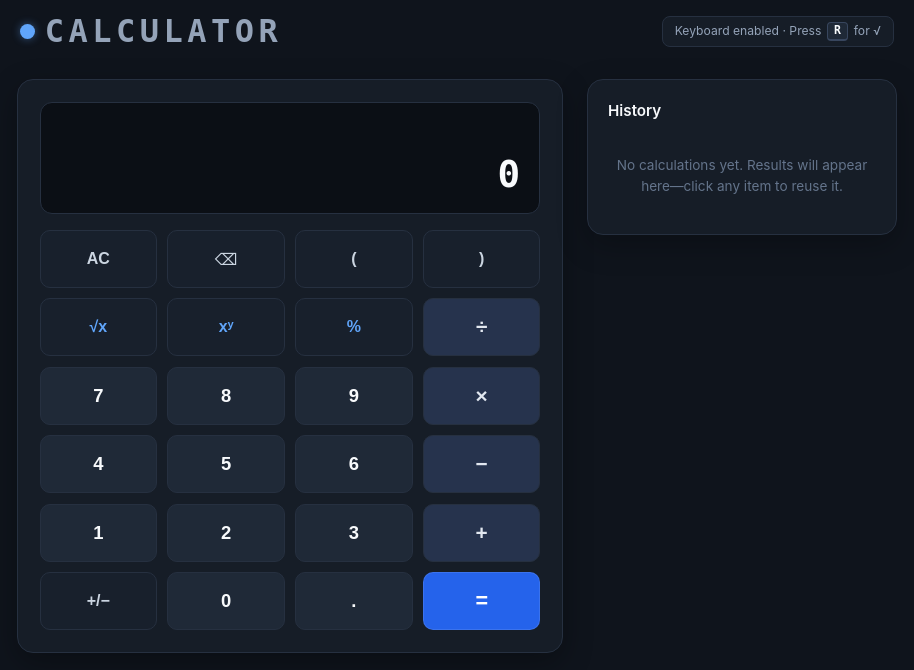
Scenario: App Calculator UI & Integration › renders square root starting with √() and inserts digits inside parentheses
Click the button named "Square root" at (98, 327), box [40, 298, 157, 356]
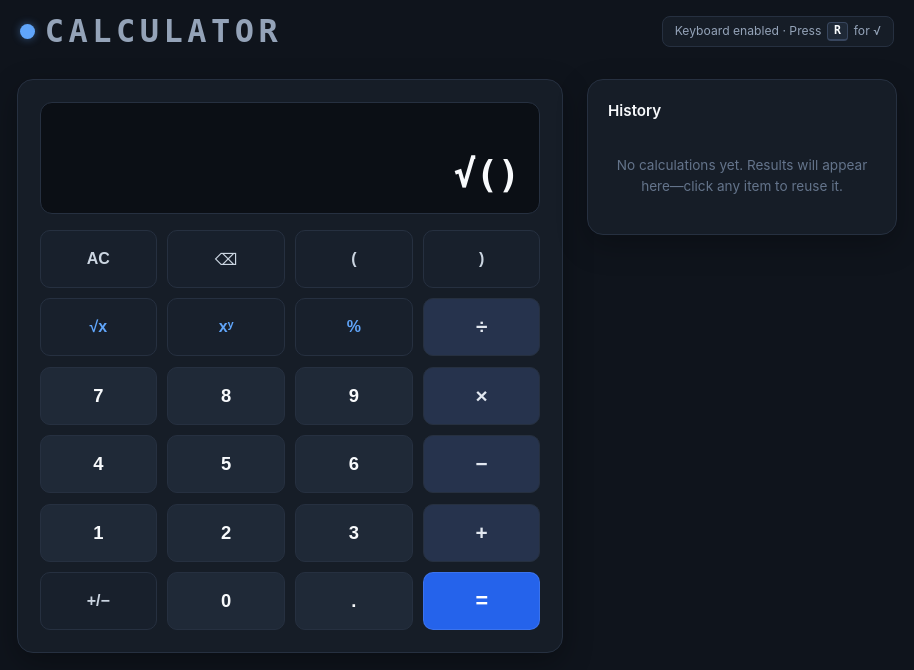
Now the message with test id "calculator-display" reads "√()", box [454, 152, 519, 196]
Click the button "1" at (98, 533), box [40, 504, 157, 562]
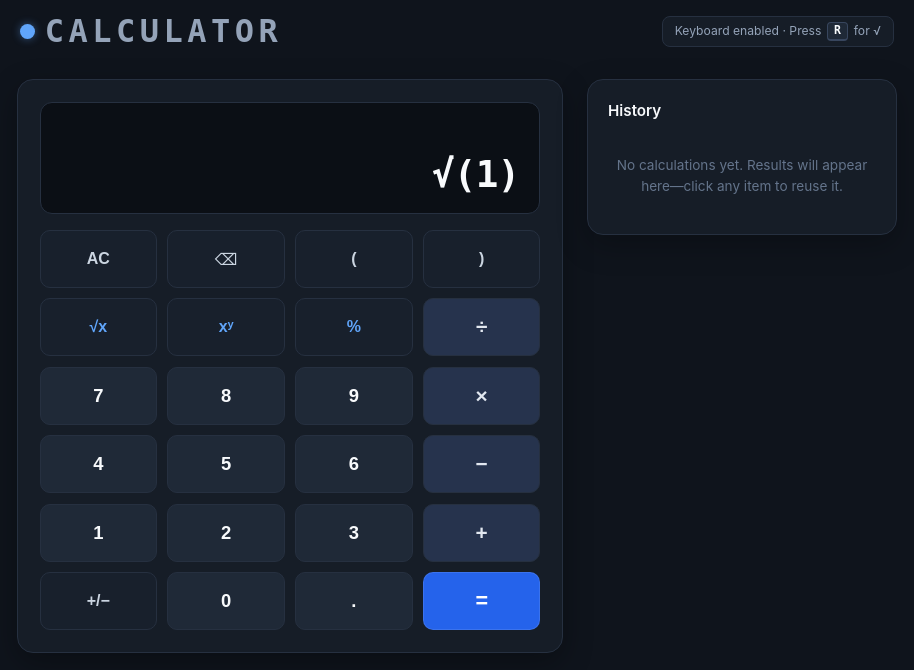
Click the button "4" at (98, 464), box [40, 435, 157, 493]
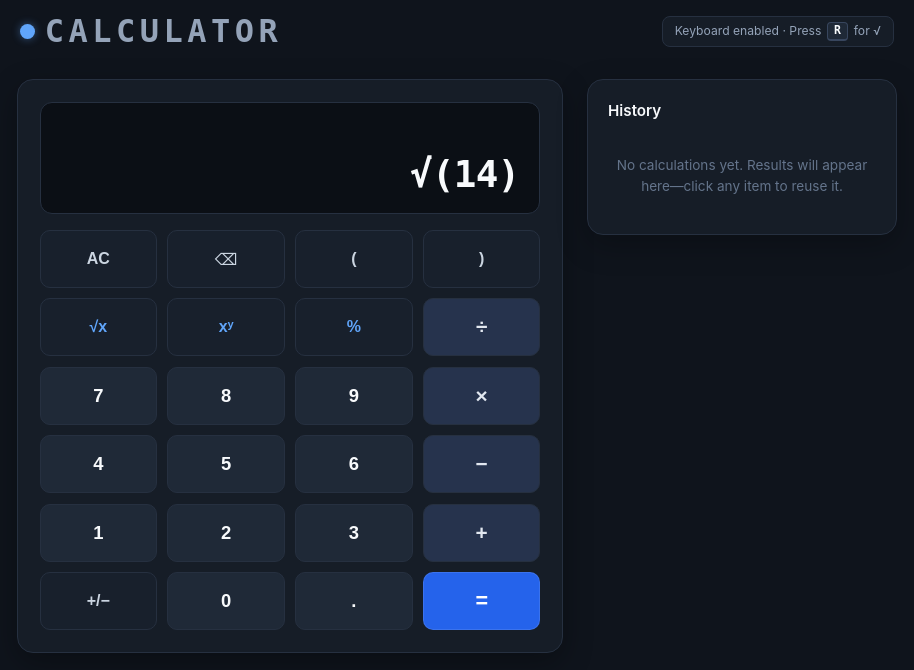
Click the button "4" at (98, 464), box [40, 435, 157, 493]
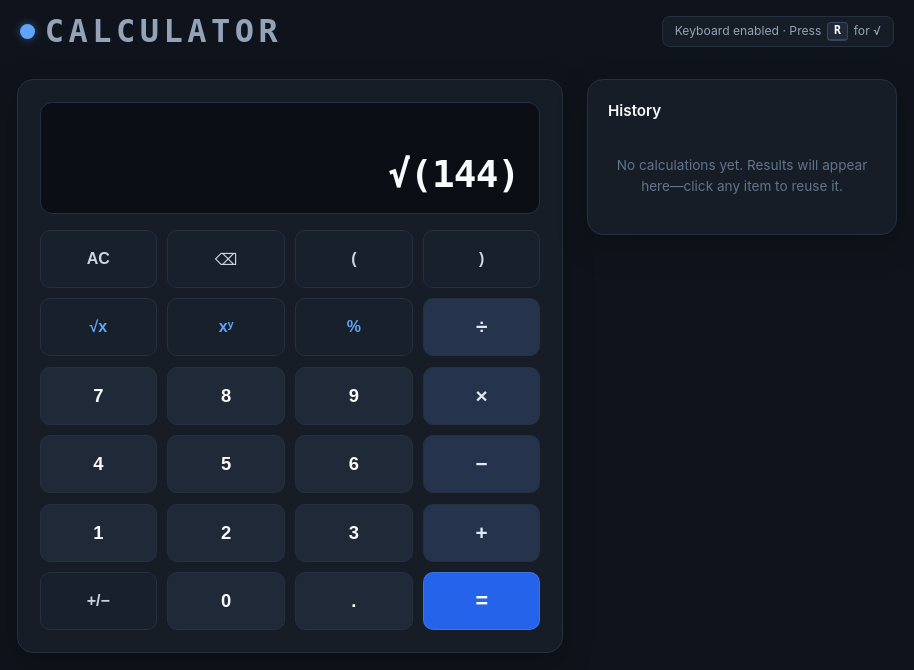
Now the message with test id "calculator-display" reads "√(144)", box [388, 152, 519, 196]
